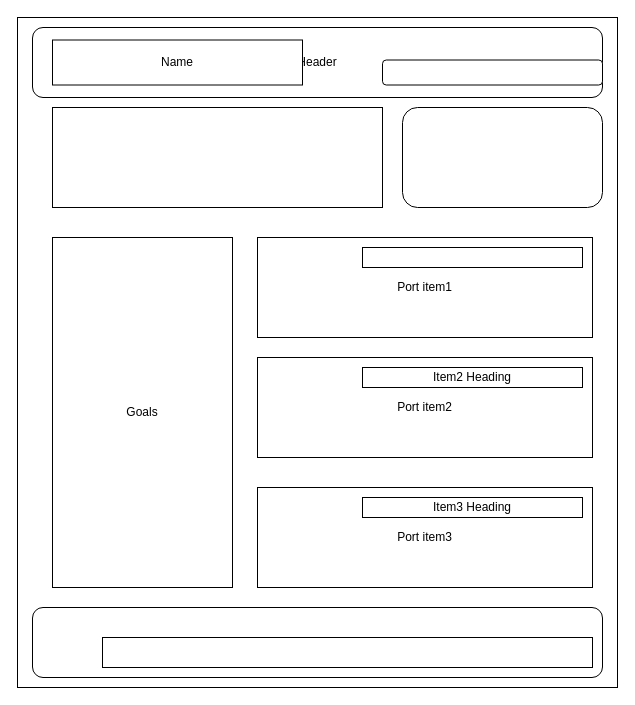
Some shapes in this 635 by 705 pixel diagram are drawn without their labels. The shapes that lost their labels are listed below. From the top down, each one's centre as x and y in pixels, then its label:
the point at 492,72: Nav Links
the point at 217,157: Brief Bio
the point at 502,157: Pic
the point at 472,257: Item1 Heading
the point at 347,652: Contact details/ Phone/Soc Media
